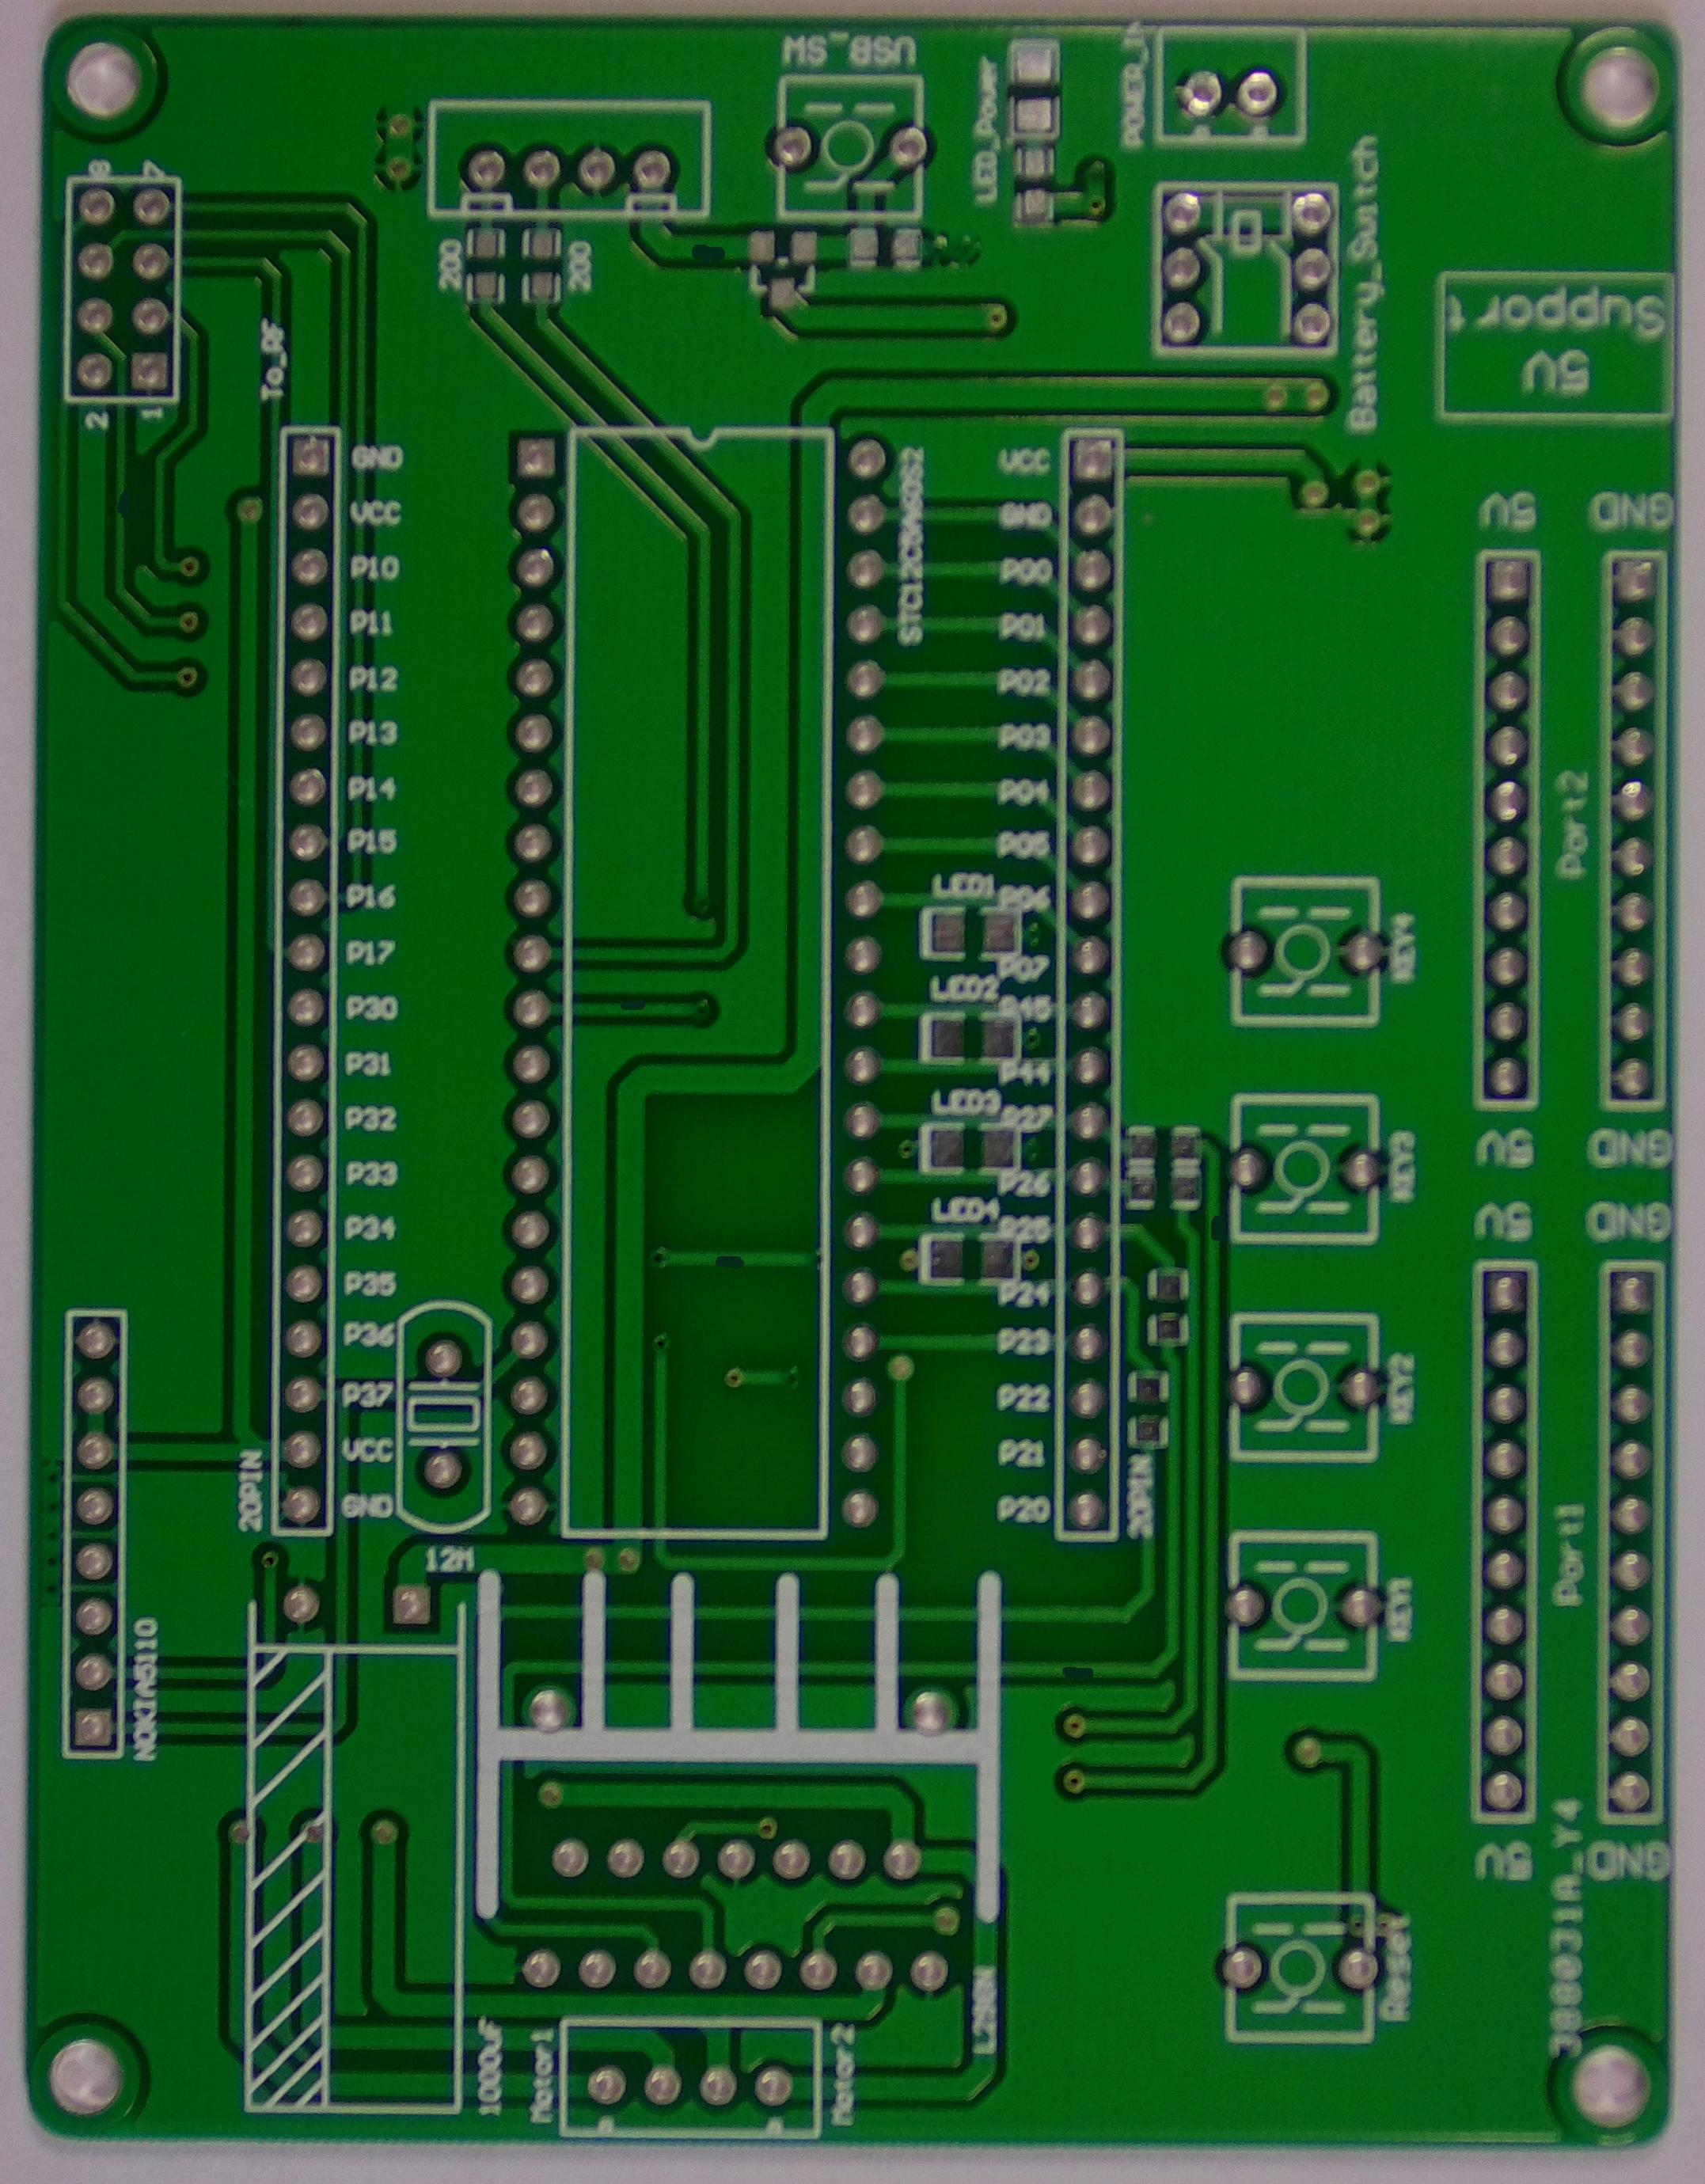mouse_bite: (682, 227, 741, 285), (1203, 1202, 1232, 1260), (110, 473, 138, 530), (1047, 1654, 1099, 1684), (610, 996, 654, 1021), (709, 1255, 750, 1278)
